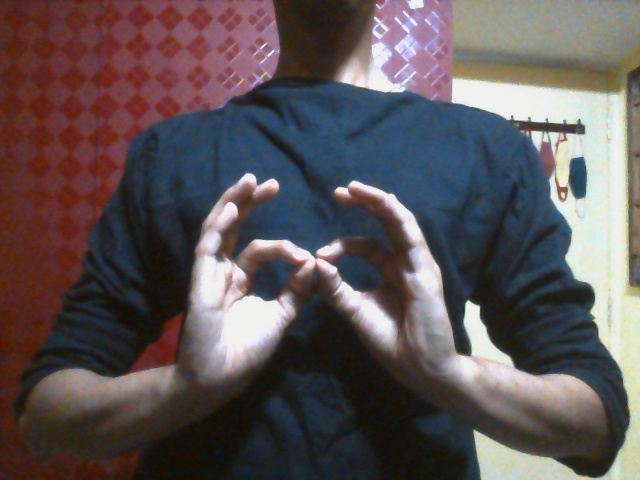B: (182, 171, 455, 406)
